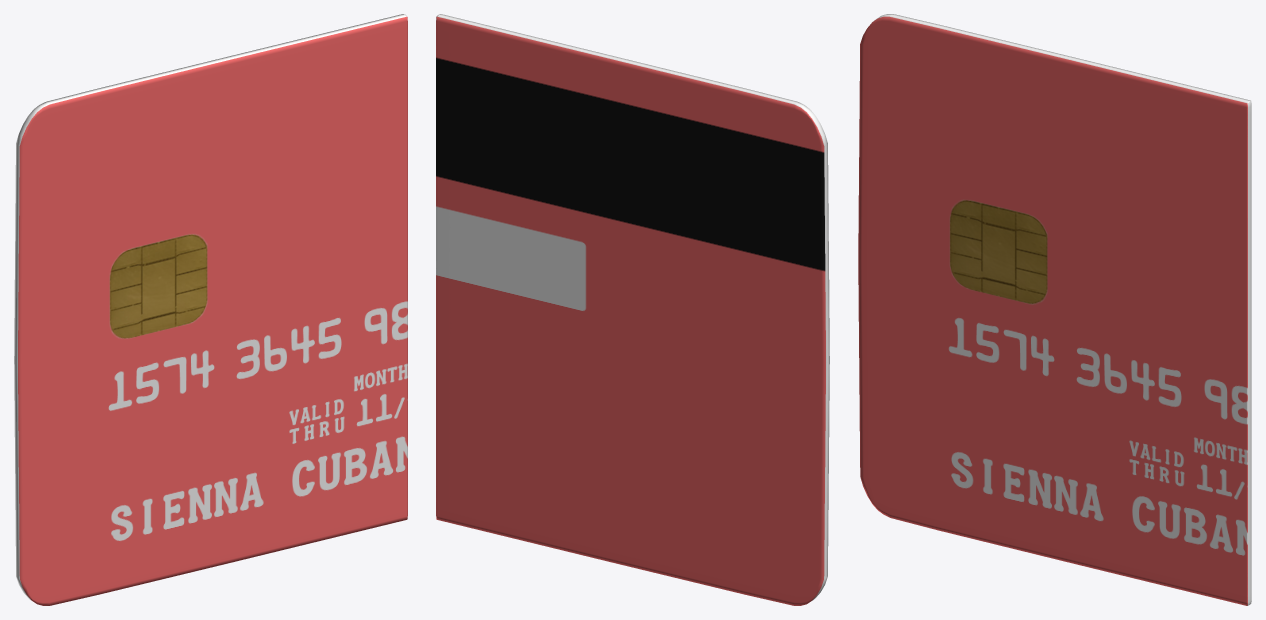
File: Model_Bank_Card_Final.fbx
3 views of the same model, side by side, from view 1: azimuth 30°, elevation 25°; view 2: azimuth 150°, elevation 25°; view 3: azimuth 330°, elevation 25° (orthographic).
Visible parts, largest first — view 1: Model_Bank_Card; view 2: Model_Bank_Card; view 3: Model_Bank_Card.
Boxes of the visible parts, x1,y1,x2,y2 form: Model_Bank_Card: [14, 14, 407, 605]; Model_Bank_Card: [436, 14, 829, 605]; Model_Bank_Card: [858, 14, 1251, 605].
Bounding box in the file's own units: 4.38 × 5.4 × 0.076.
1 material, 1 textured.
